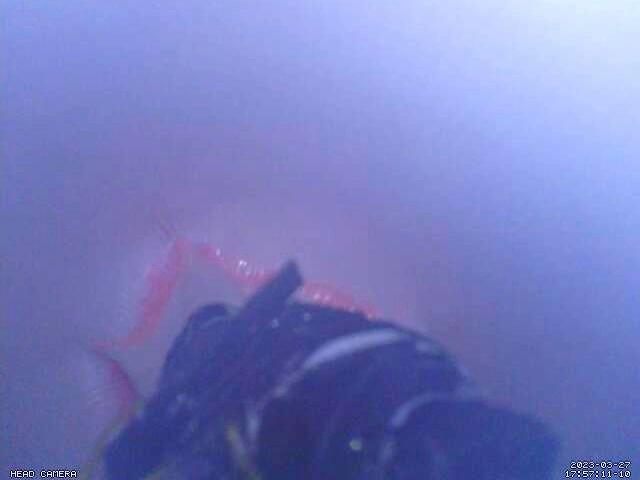head: (93, 237, 377, 420)
